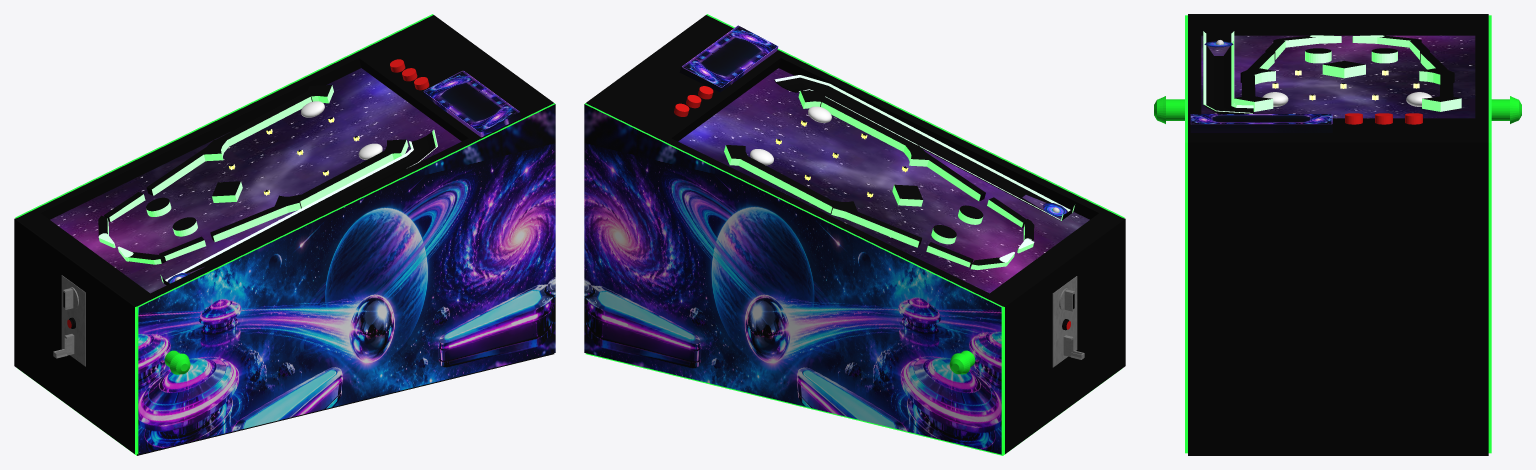
File: 1PlayerMode.glb
3 views of the same model, side by side, from view 1: azimuth 30°, elevation 25°; view 2: azimuth 150°, elevation 25°; view 3: azimuth 270°, elevation 25° (orthographic). The views are drawn at different scales.
Visible parts, largest first — view 1: Cubo, Cubo.008, Cilindro, Cubo.006, Cubo.025, Cubo.011, Cubo.004, Cubo.013, rombo; view 2: Cubo, Cilindro, Cubo.008, Cubo.025, Cubo.011, Cubo.006, Cubo.013, Cubo.004, rombo; view 3: Cubo, Cubo.008, Cilindro, Cilindro.003, Cilindro.009, rombo, Cubo.010, Cubo.007, circular L, circular R, Cubo.012, Cubo.005.
Part boxes in pixels (x1,y1,x2,y2): Cubo: [14, 14, 555, 455]; Cubo.008: [423, 70, 521, 137]; Cilindro: [160, 129, 437, 285]; Cubo.006: [300, 149, 393, 207]; Cubo.025: [61, 275, 85, 366]; Cubo.011: [216, 92, 311, 146]; Cubo.004: [210, 206, 287, 241]; Cubo.013: [146, 147, 205, 195]; rombo: [212, 181, 242, 202]; Cubo: [584, 14, 1125, 455]; Cilindro: [774, 75, 1074, 220]; Cubo.008: [679, 25, 778, 92]; Cubo.025: [1052, 276, 1077, 367]; Cubo.011: [738, 156, 832, 213]; Cubo.006: [819, 97, 916, 151]; Cubo.013: [844, 211, 921, 247]; Cubo.004: [927, 153, 985, 201]; rombo: [892, 184, 922, 206]; Cubo: [1185, 14, 1491, 455]; Cubo.008: [1190, 114, 1332, 132]; Cilindro: [1203, 31, 1253, 113]; Cilindro.003: [1491, 96, 1521, 123]; Cilindro.009: [1154, 96, 1184, 123]; rombo: [1322, 60, 1365, 78]; Cubo.010: [1422, 95, 1461, 111]; Cubo.007: [1233, 95, 1273, 111]; circular L: [1371, 48, 1397, 63]; circular R: [1305, 48, 1331, 63]; Cubo.012: [1419, 68, 1454, 84]; Cubo.005: [1240, 68, 1275, 84].
Bounding box in the file's own units: 21.02 × 11.5 × 12.25.
Materials: 15 (5 with a texture image).
